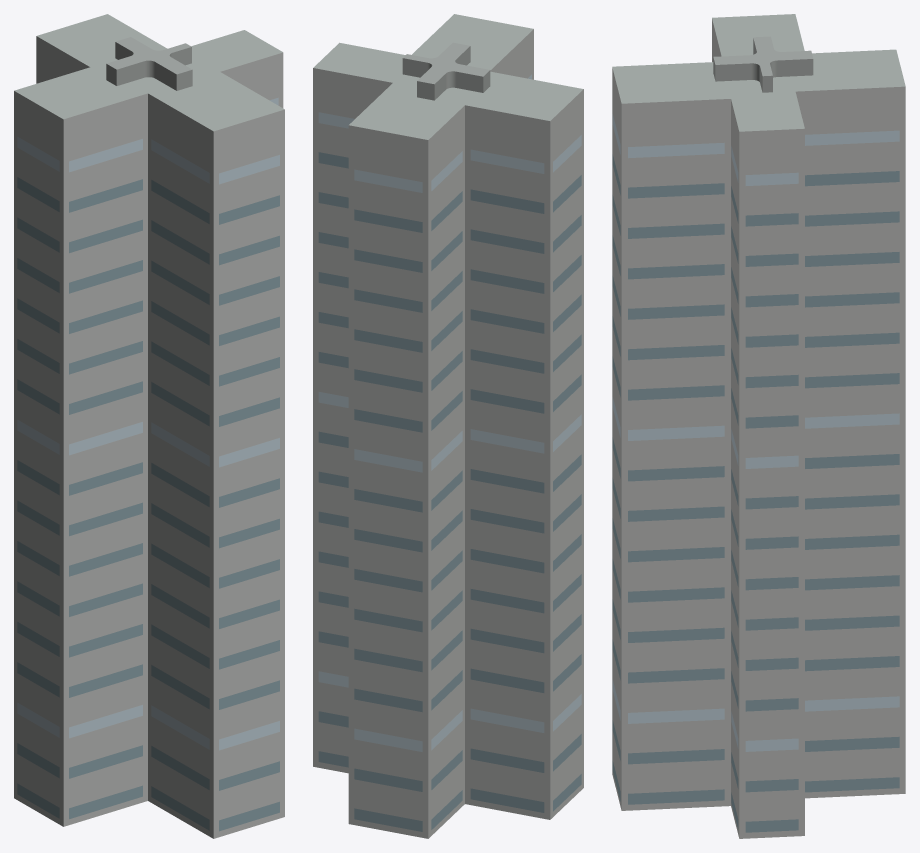
Rendered from fallback-acro-riverview-103.glb.
3 renders of one model, left to right at view 1: azimuth 30°, elevation 25°; view 2: azimuth 150°, elevation 25°; view 3: azimuth 270°, elevation 25°, orthographic.
Visible parts, largest first — view 1: fallback-acro-riverview-103; view 2: fallback-acro-riverview-103; view 3: fallback-acro-riverview-103.
Part boxes in pixels (<box>): fallback-acro-riverview-103: <box>14,14,284,838</box>; fallback-acro-riverview-103: <box>313,14,583,838</box>; fallback-acro-riverview-103: <box>612,14,905,838</box>.
Size of the model in its own units: 36.64 by 105 by 38.59.
